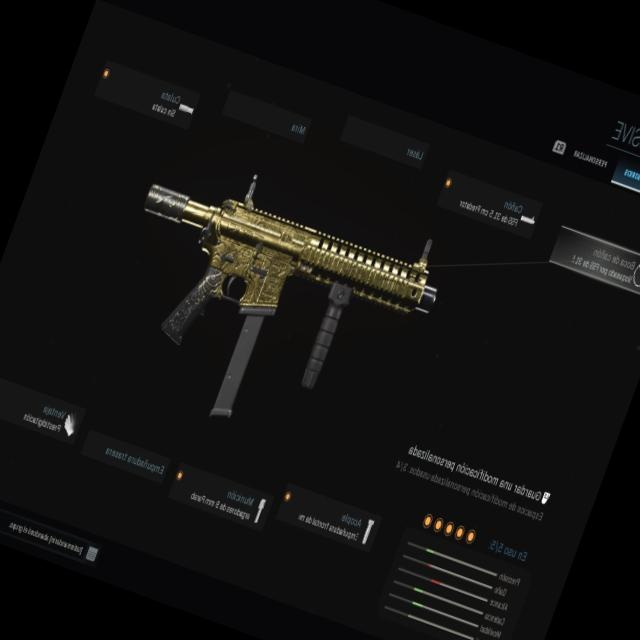Weapon: (80, 144, 457, 481)
